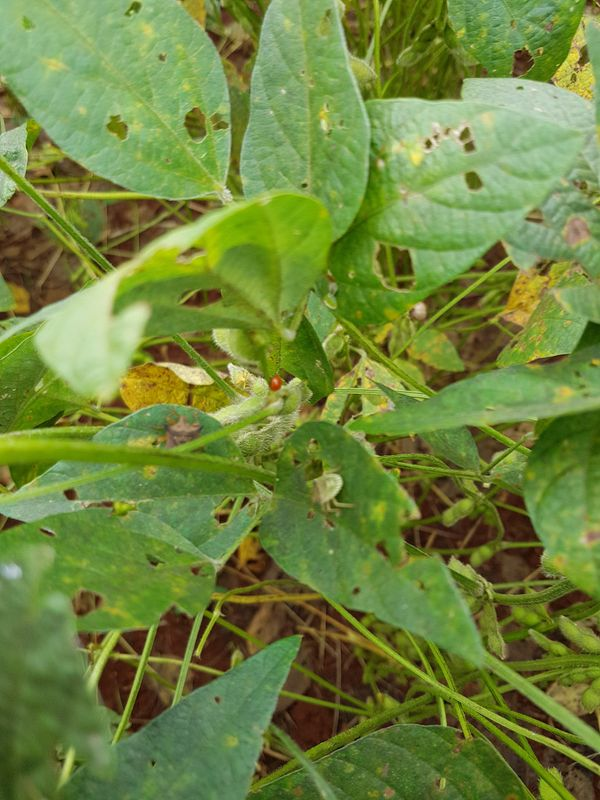Coccinellidae: (260, 369, 291, 397)
Euschistus_heros_adulto: (150, 409, 215, 479)
Euschistus_heros_ninfa: (295, 463, 360, 526)
